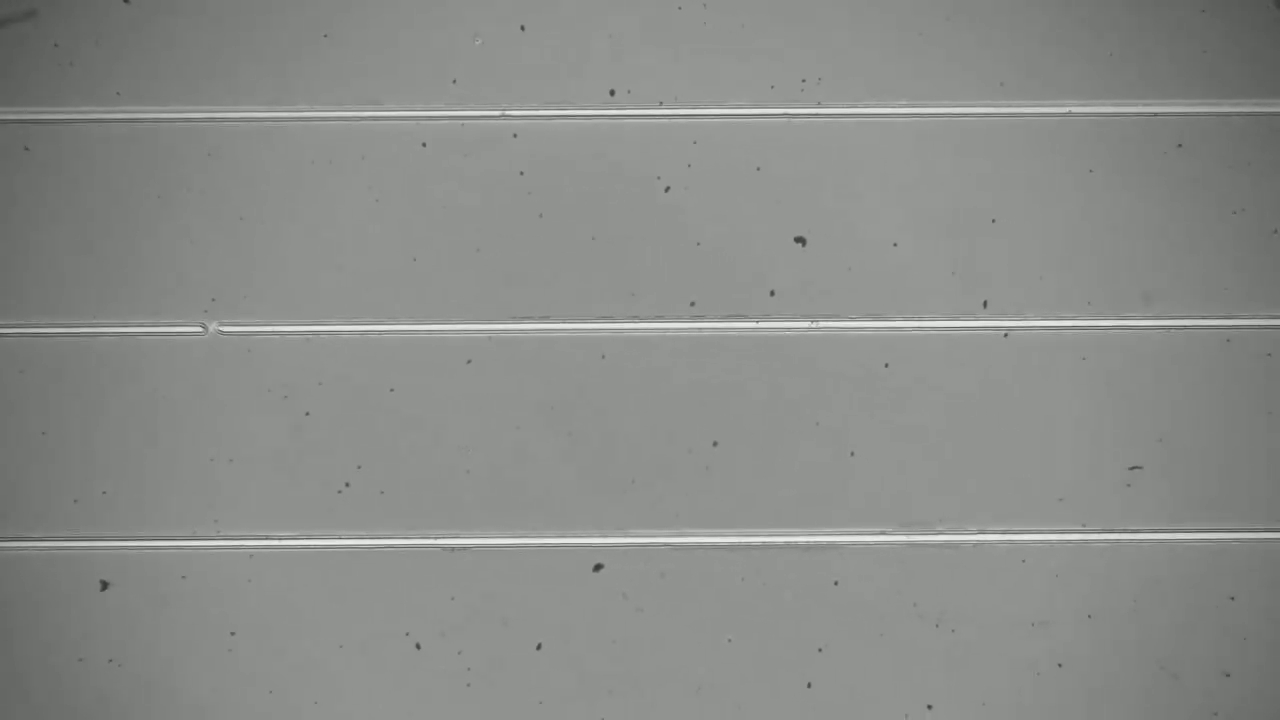open: (191, 310, 236, 351)
